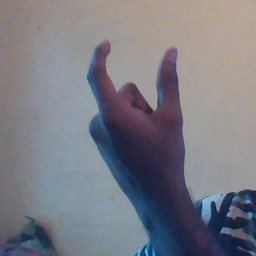U: (83, 36, 189, 182)
